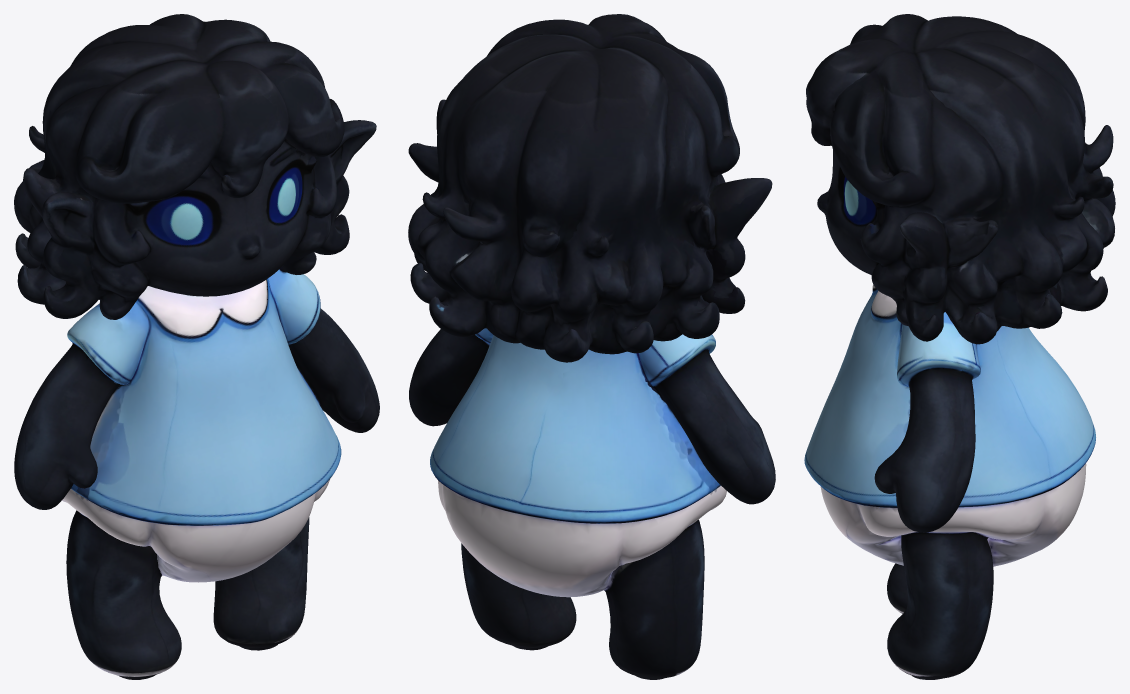
File: kaskitbestdoll.glb
The picture shows the model from 3 angles, left to right: view 1: azimuth 30°, elevation 25°; view 2: azimuth 150°, elevation 25°; view 3: azimuth 270°, elevation 25°; orthographic projection.
Parts seen in each view (by area): view 1: temp_mesh.ply; view 2: temp_mesh.ply; view 3: temp_mesh.ply.
Boxes of the visible parts, box(x1,y1,x2,y2) form: temp_mesh.ply: box(14, 14, 379, 679); temp_mesh.ply: box(408, 14, 775, 679); temp_mesh.ply: box(804, 14, 1115, 679).
Size of the model in its own units: 1.2 by 1.97 by 0.923.
1 material, 1 textured.
